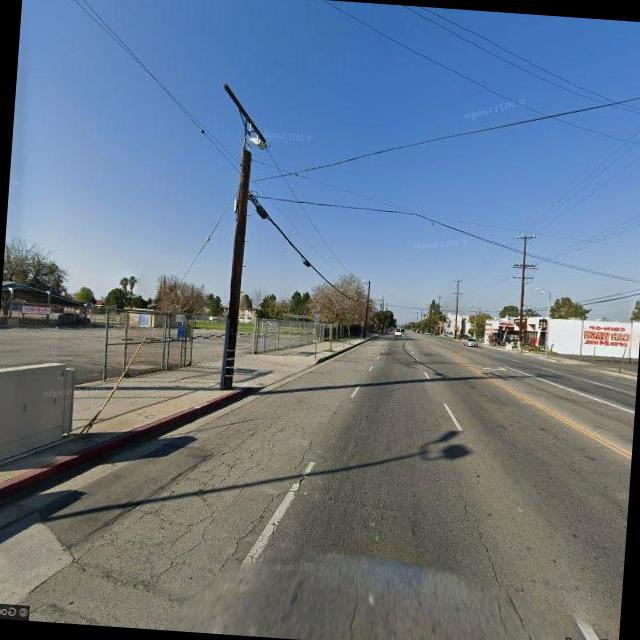crack: (56, 351, 338, 627)
pothole: (459, 517, 542, 640)
